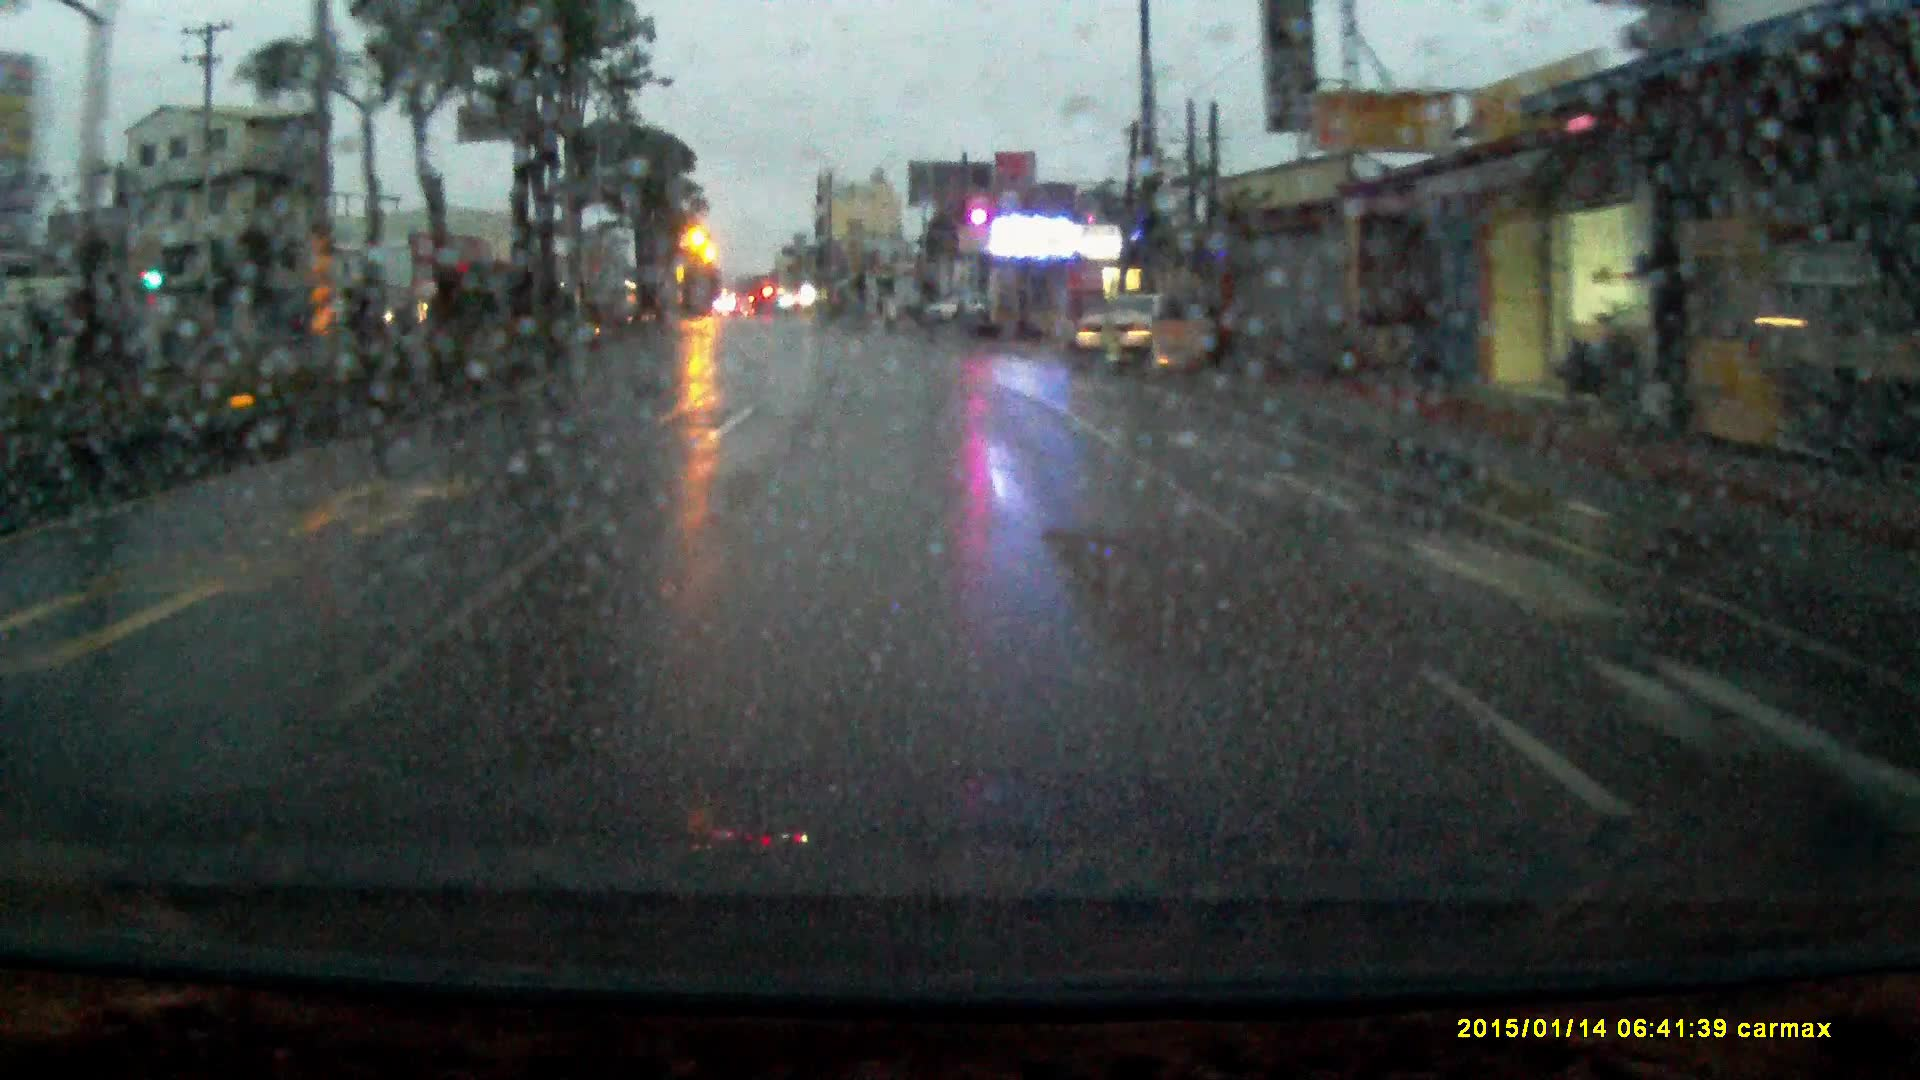vehicle: (1080, 291, 1215, 376), (922, 287, 996, 327)
